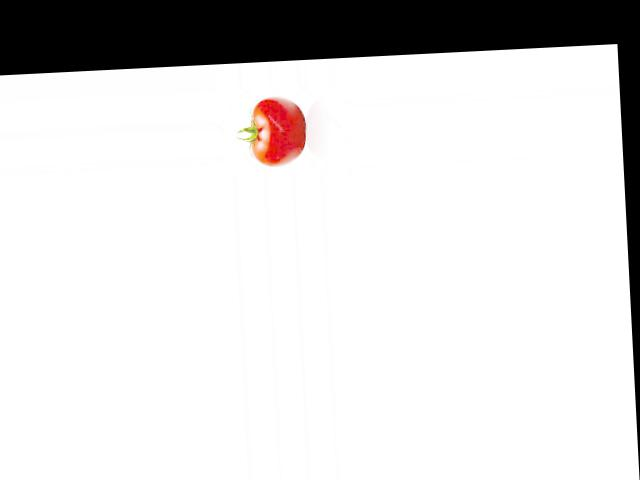tomato: (249, 94, 307, 167)
